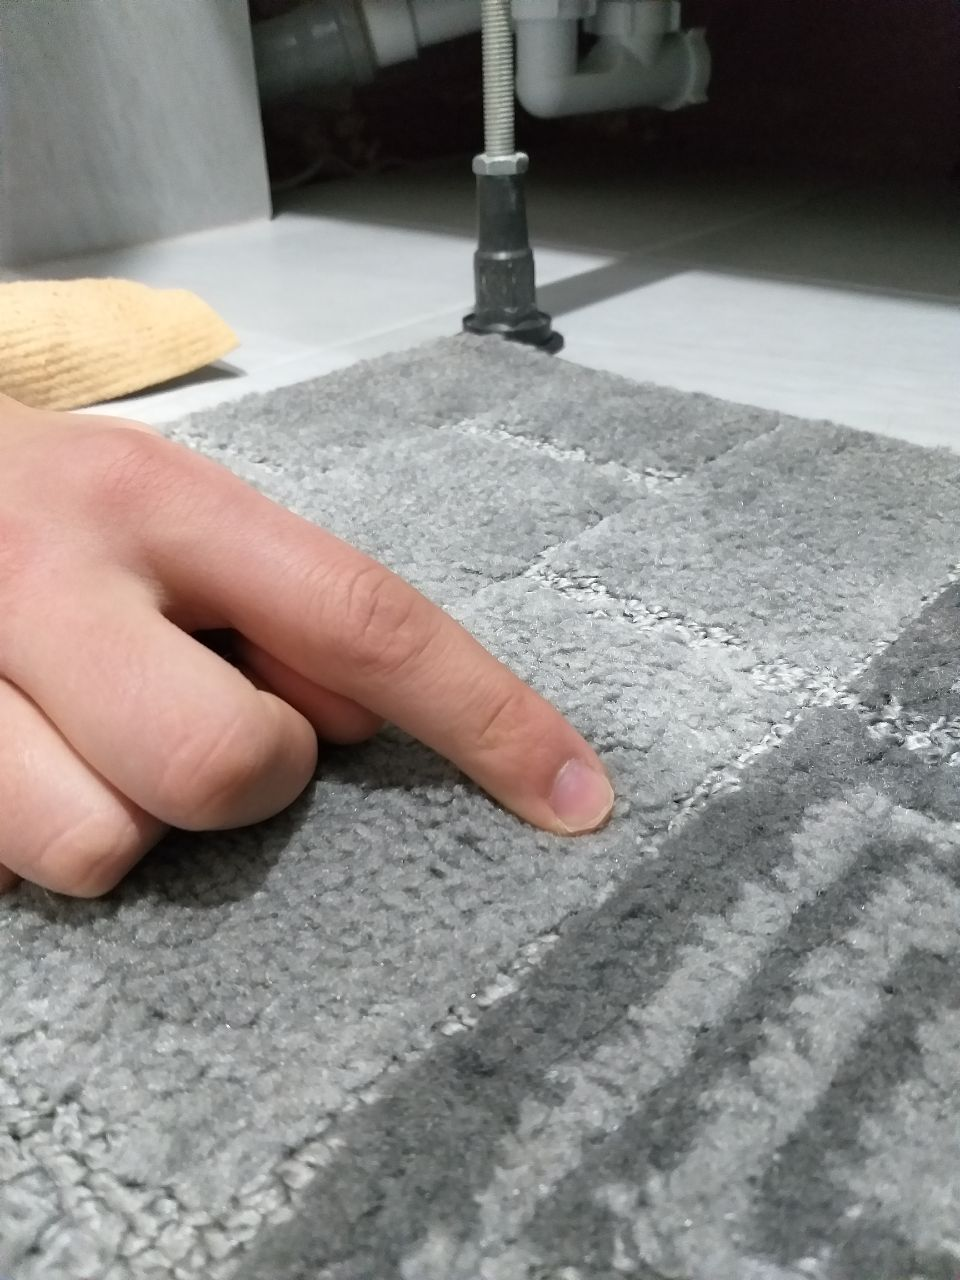finger: (510, 739, 612, 833)
